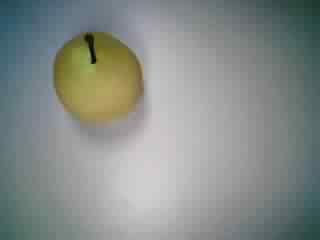pear: (38, 22, 156, 130)
